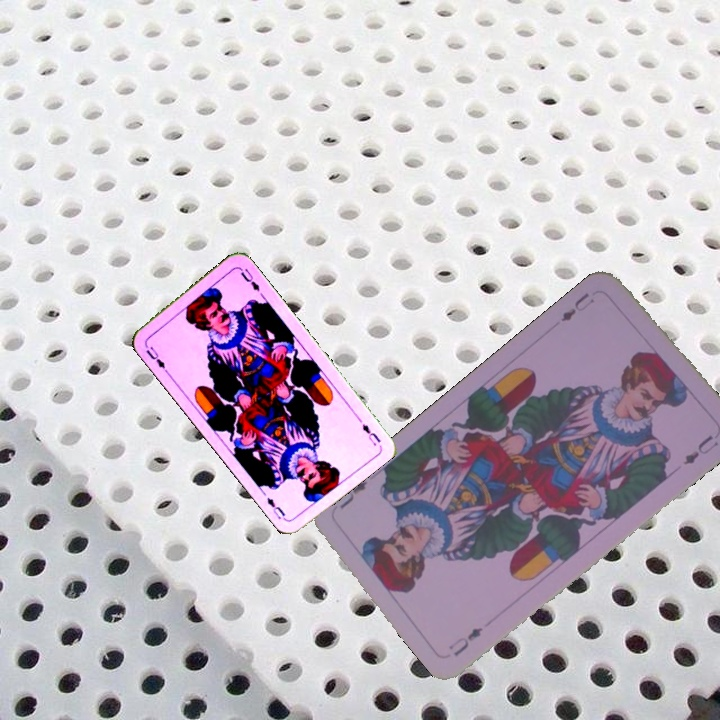EU: (444, 623, 486, 659), (556, 288, 592, 324), (142, 343, 170, 375), (358, 419, 383, 448)
